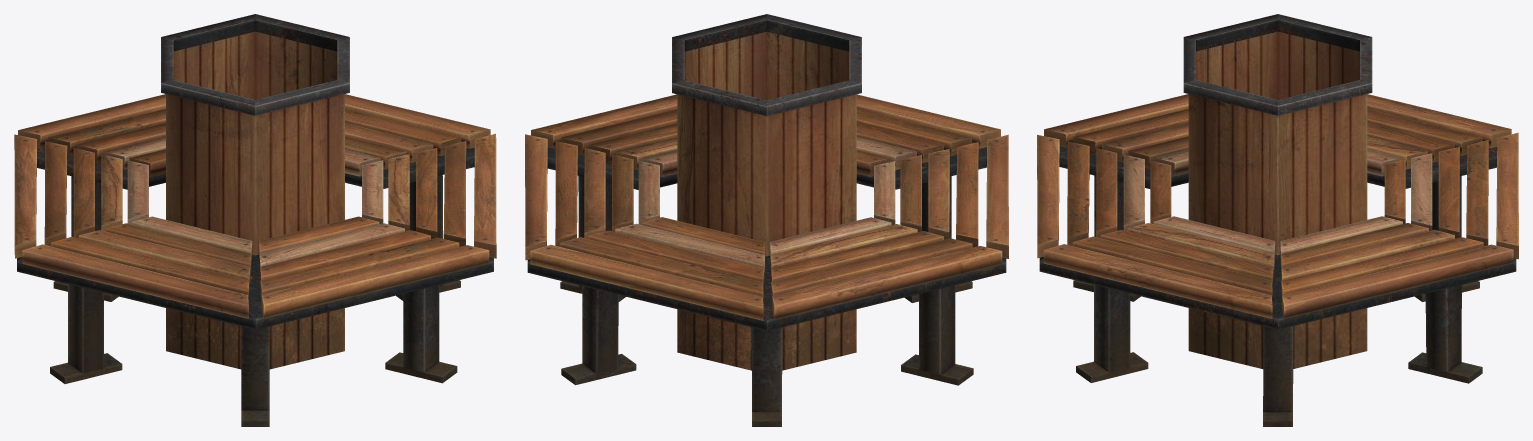
The model's file is Park_Bench_4.glb.
3 views of the same model, side by side, from view 1: azimuth 30°, elevation 25°; view 2: azimuth 150°, elevation 25°; view 3: azimuth 270°, elevation 25° (orthographic).
Parts seen in each view (by area): view 1: Park_Bench_4__LOD3; view 2: Park_Bench_4__LOD3; view 3: Park_Bench_4__LOD3.
Boxes of the visible parts, left/top/right/bottom form: Park_Bench_4__LOD3: left=14, top=14, right=496, bottom=426; Park_Bench_4__LOD3: left=525, top=14, right=1008, bottom=426; Park_Bench_4__LOD3: left=1037, top=14, right=1518, bottom=426.
Bounding box in the file's own units: 2.36 × 1.28 × 2.07.
1 material, 1 textured.
